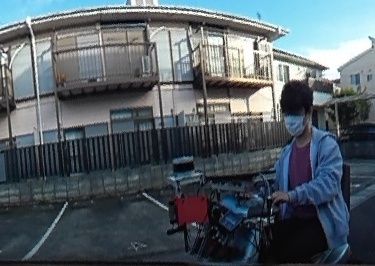person: (265, 82, 338, 266)
